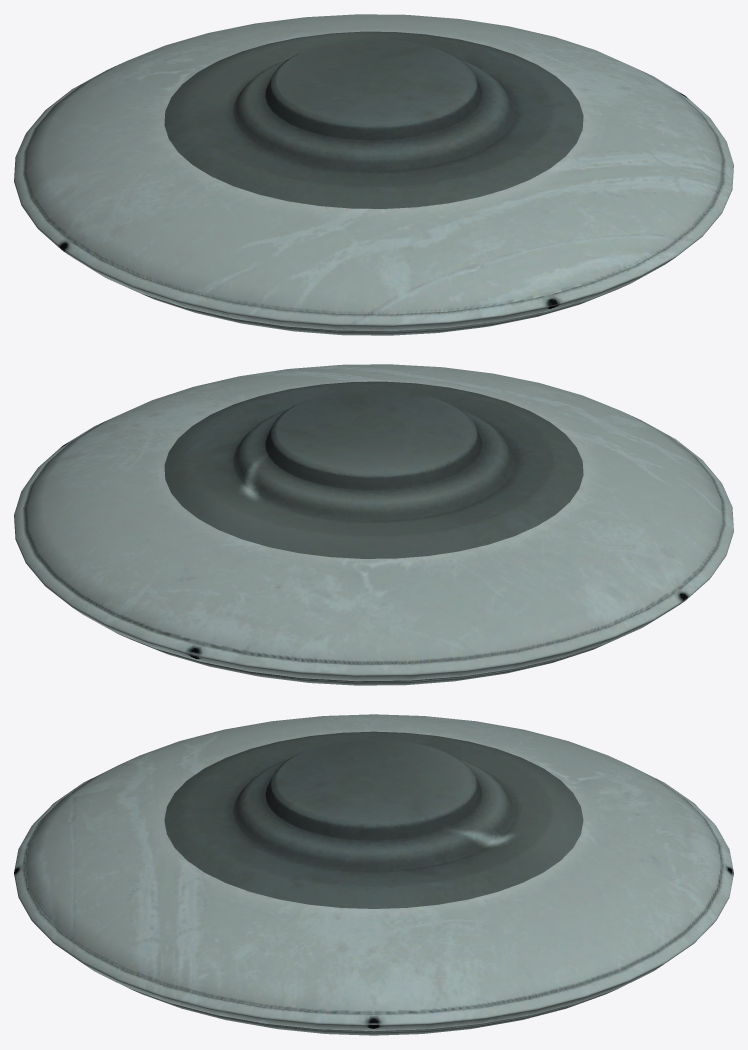
Rendered from ufo.fbx.
The picture shows the model from 3 angles, top to bottom: view 1: azimuth 30°, elevation 25°; view 2: azimuth 150°, elevation 25°; view 3: azimuth 270°, elevation 25°; orthographic projection.
Parts seen in each view (by area): view 1: UFO_001; view 2: UFO_001; view 3: UFO_001.
Boxes of the visible parts, x1,y1,x2,y2 form: UFO_001: (14,14,733,335); UFO_001: (14,364,733,685); UFO_001: (14,714,733,1035).
Bounding box in the file's own units: 5.94 × 1.55 × 5.94.
